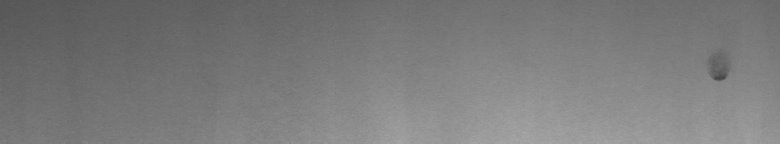fi: (708, 60, 732, 88)
